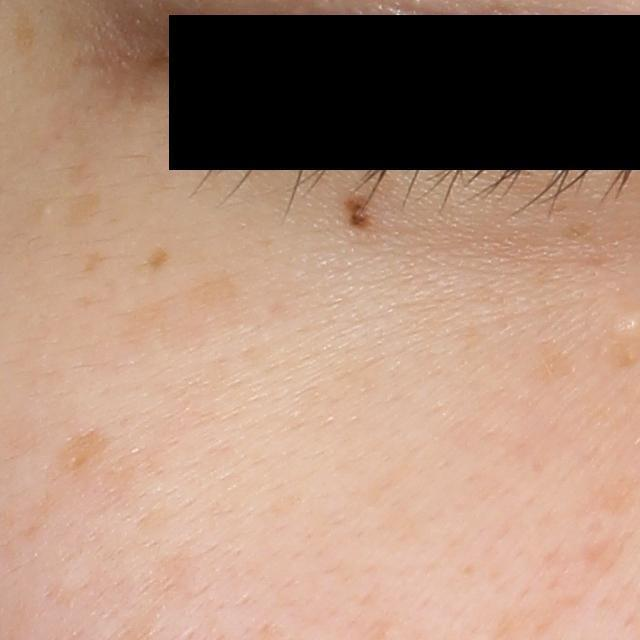melasma: (124, 272, 258, 366), (39, 422, 112, 502), (529, 332, 585, 384), (60, 187, 100, 233), (5, 7, 39, 57), (139, 242, 172, 275)
nevus: (335, 191, 371, 231)
